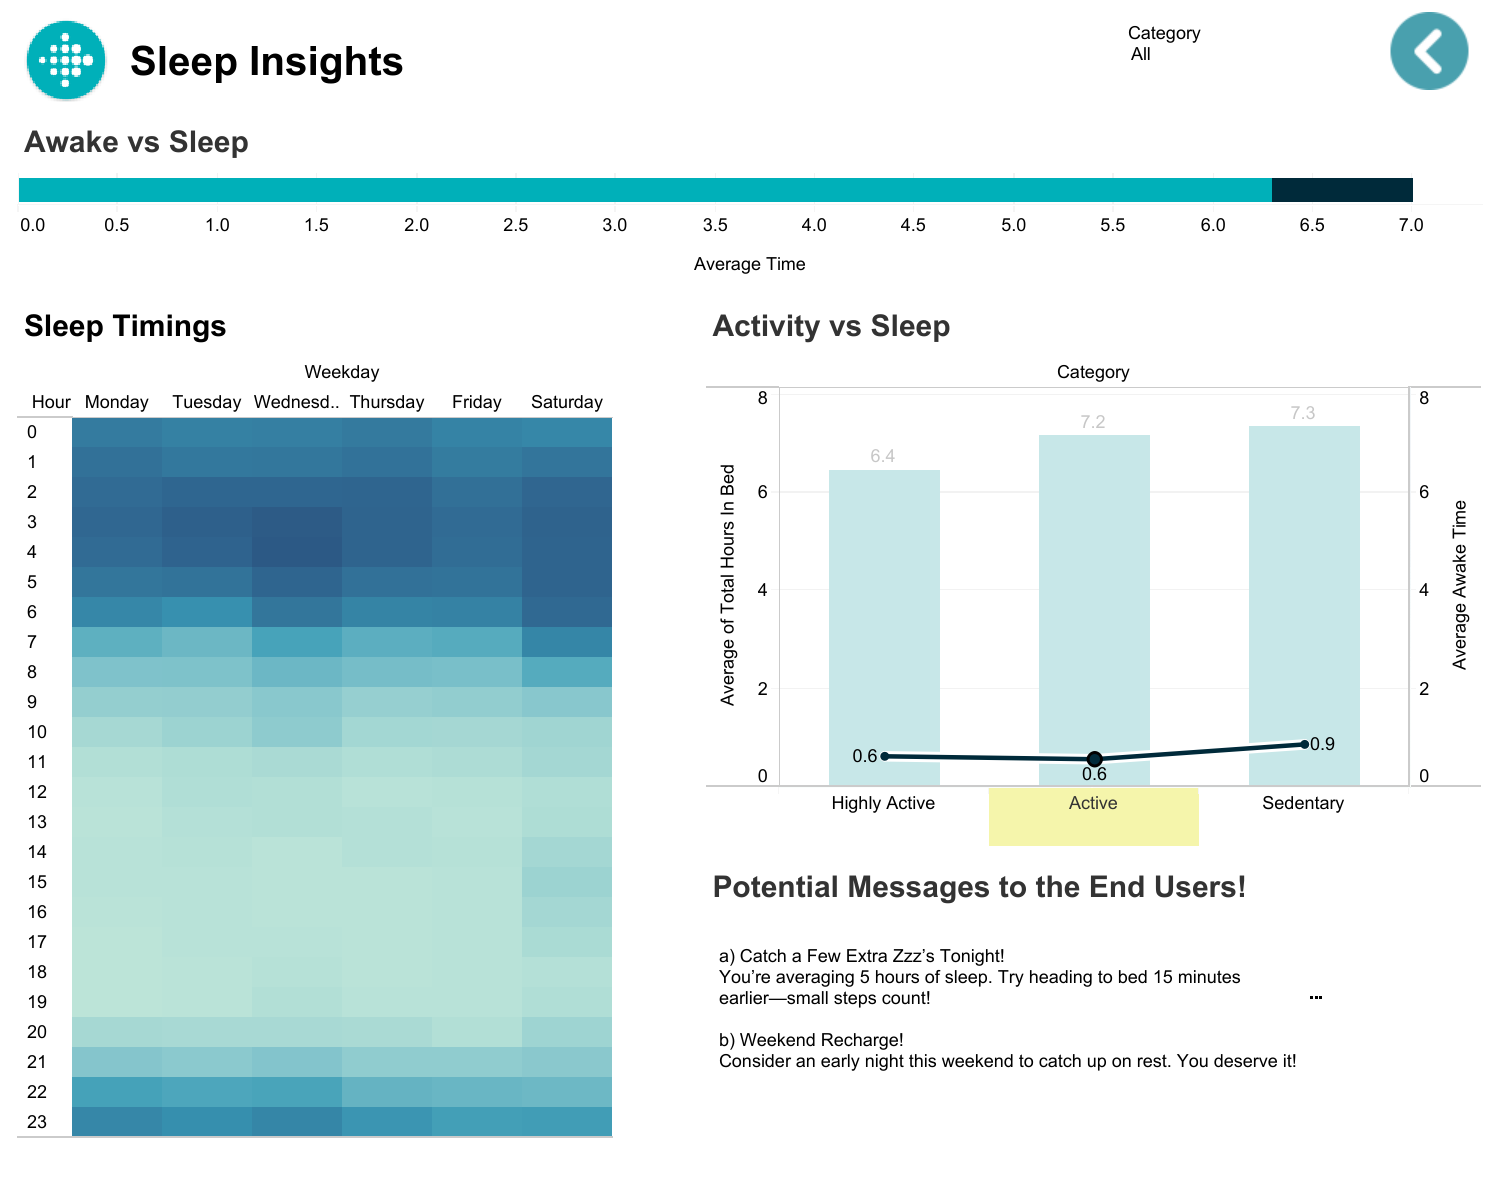

What the dashboard file says about the page in this screenshot:
{"tool":"tableau","page":{"name":"Sleep Dashboard","canvas":[1000,800],"ordinal":2},"visuals":[{"type":"image","param":"Image/new-fitbit-flex-and-charge-leaked-finally-fitbit-can-swim-run-765316.png","box":[8,8,72,64]},{"type":"title","box":[80,8,912,64]},{"type":"dashboard-object","box":[914,8,79,52]},{"type":"filter","title":"Sleep - Heatmap","param":"[federated.1jkm5rr1sd1izx12yl1mx12hcu5c].[none:SleepCategory:nk]","box":[752,14,160,44]},{"type":"worksheet","title":"Awake vs Sleep","mark":"Bar","cols":["Time"],"box":[8,72,984,122.9]},{"type":"worksheet","title":"Sleep - Heatmap","mark":"Automatic","rows":["Calculation_314618665449672705"],"cols":["StartDate"],"box":[8,194.9,459,597.1]},{"type":"worksheet","title":"Activity vs Sleep","mark":"Bar","rows":["Average of TotalHoursInBed (sleepDay_merged_final_1 (1).csv)","Average of Awake_time_in_bed (sleepDay_merged_final_1 (1).cs"],"cols":["ActivityCategory"],"box":[467,194.9,525,374.1]},{"type":"worksheet","title":"Sleep Messages","mark":"Automatic","box":[467,569,525,223]}]}

Visuals, with their boxes in screenshot pixels (x1, y1, x2, y2), scaled from the page's 1000x800 canvas onto the 1499x1199 screenshot:
image: [left=12, top=12, right=120, bottom=108]
title: [left=120, top=12, right=1487, bottom=108]
dashboard-object: [left=1370, top=12, right=1489, bottom=90]
"Sleep - Heatmap" filter: [left=1127, top=21, right=1367, bottom=87]
"Awake vs Sleep" worksheet (Bar marks): [left=12, top=108, right=1487, bottom=292]
"Sleep - Heatmap" worksheet: [left=12, top=292, right=700, bottom=1187]
"Activity vs Sleep" worksheet (Bar marks): [left=700, top=292, right=1487, bottom=853]
"Sleep Messages" worksheet: [left=700, top=853, right=1487, bottom=1187]
